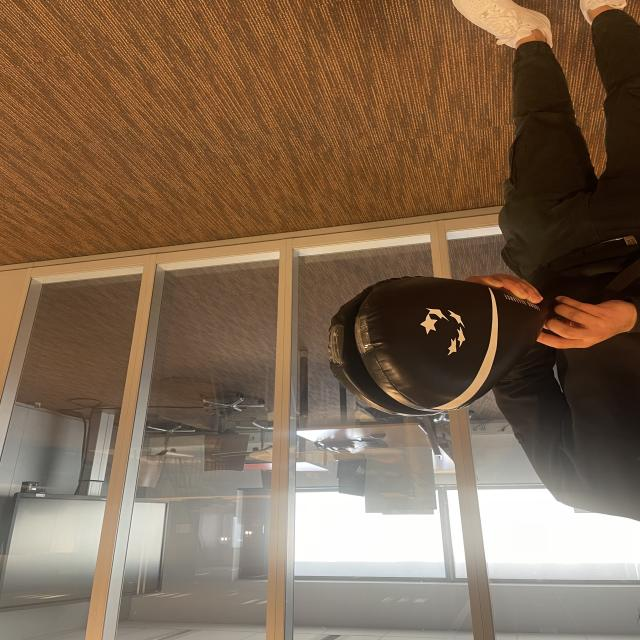paddle: (324, 280, 522, 423)
